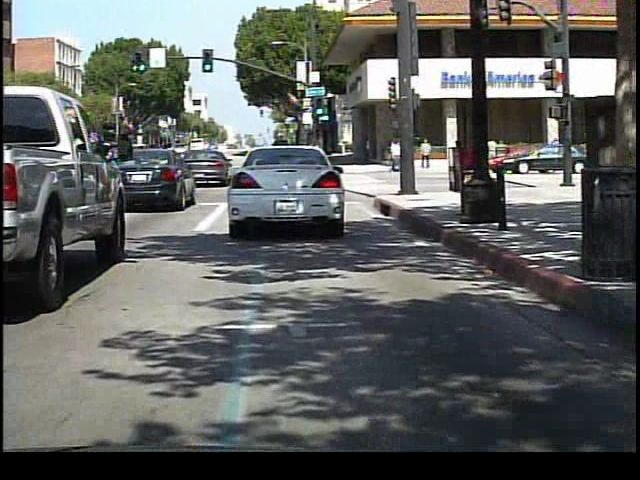person: (482, 135, 502, 171), (418, 137, 434, 169), (388, 138, 401, 175)
